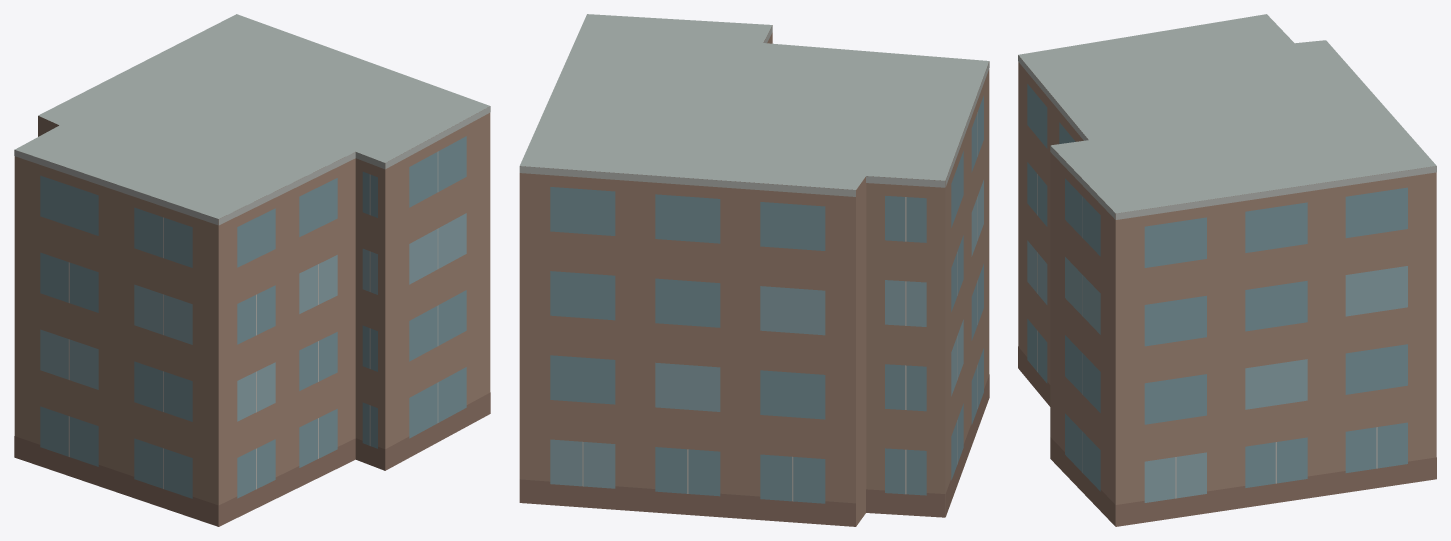
The model's file is survey-upis-32867722.glb.
3 renders of one model, left to right at view 1: azimuth 30°, elevation 25°; view 2: azimuth 150°, elevation 25°; view 3: azimuth 270°, elevation 25°, orthographic. The views are drawn at different scales.
Parts seen in each view (by area): view 1: survey-upis-32867722.tmp; view 2: survey-upis-32867722.tmp; view 3: survey-upis-32867722.tmp.
Boxes of the visible parts, x1,y1,x2,y2 form: survey-upis-32867722.tmp: (14, 14, 490, 526); survey-upis-32867722.tmp: (519, 14, 989, 526); survey-upis-32867722.tmp: (1018, 14, 1436, 526).
Size of the model in its own units: 15.99 by 11.7 by 14.18.
